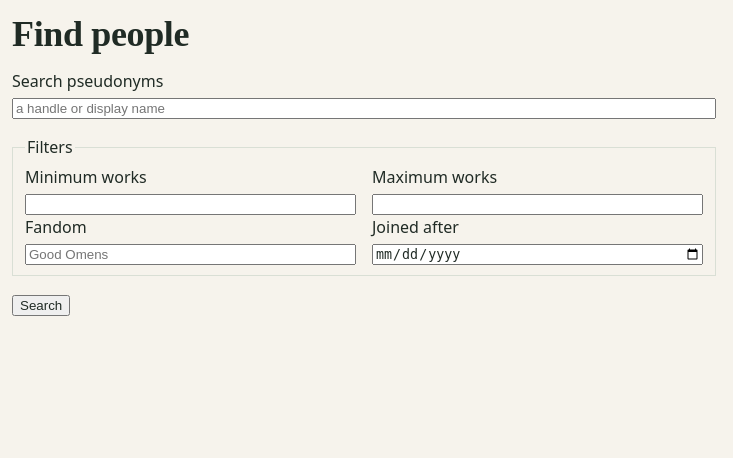
Test: UserSearch › lists the handles it found
The image size is (733, 458).
Type "owl" into the search field labelled "Search pseudonyms". click: (364, 108)
box: [12,98,716,119]
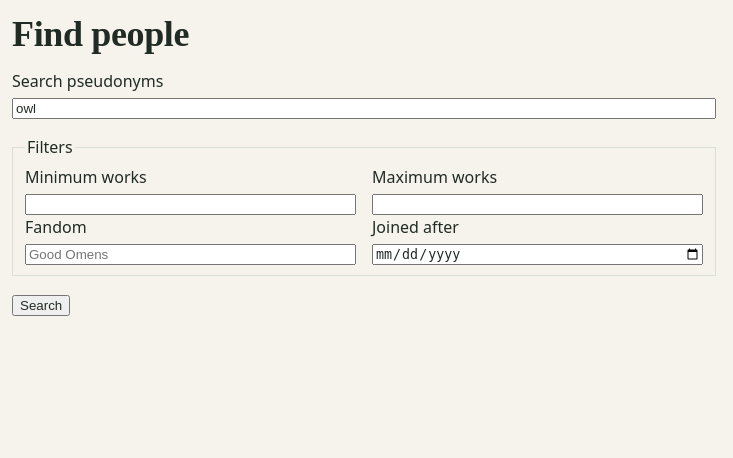
Click the button "Search". click: (41, 306)
box: [12,295,70,316]
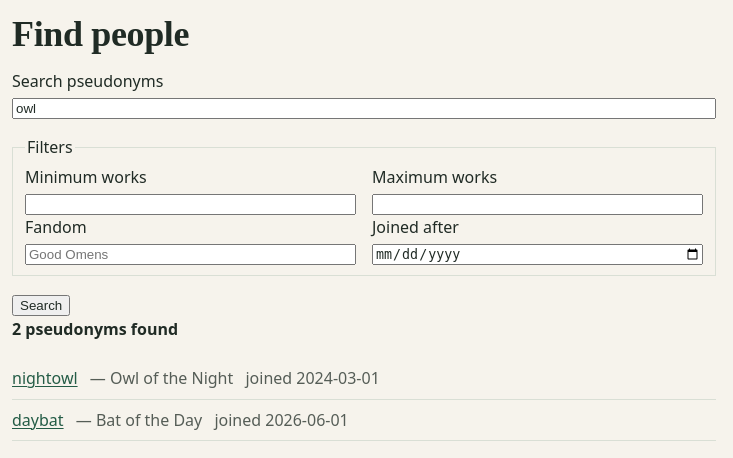
Now the link "nightowl" is shown, box [12,367,78,389]
